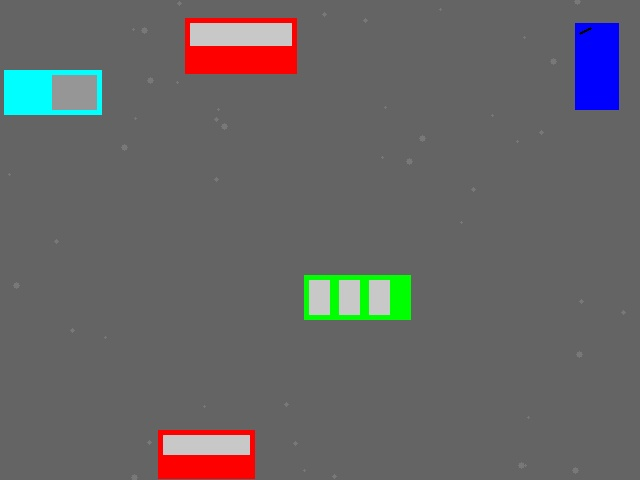bus: (304, 275, 410, 319)
car: (185, 18, 296, 73), (158, 430, 254, 478)
motorcycle: (575, 23, 618, 109)
truck: (4, 70, 101, 114)
